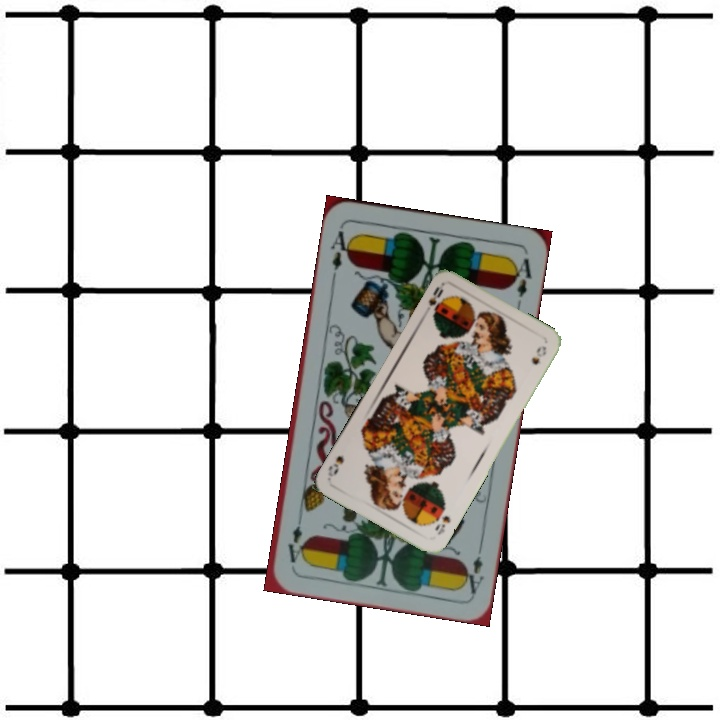EA: (326, 222, 354, 282), (459, 538, 487, 597)
SO: (424, 280, 446, 319), (431, 503, 453, 537)
